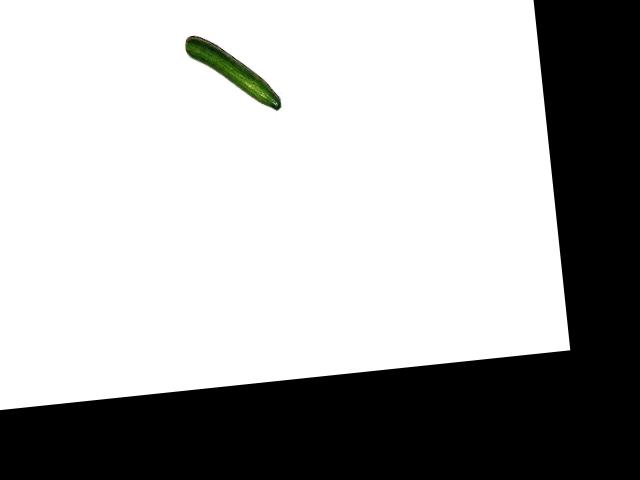cucumber: (183, 27, 281, 118)
